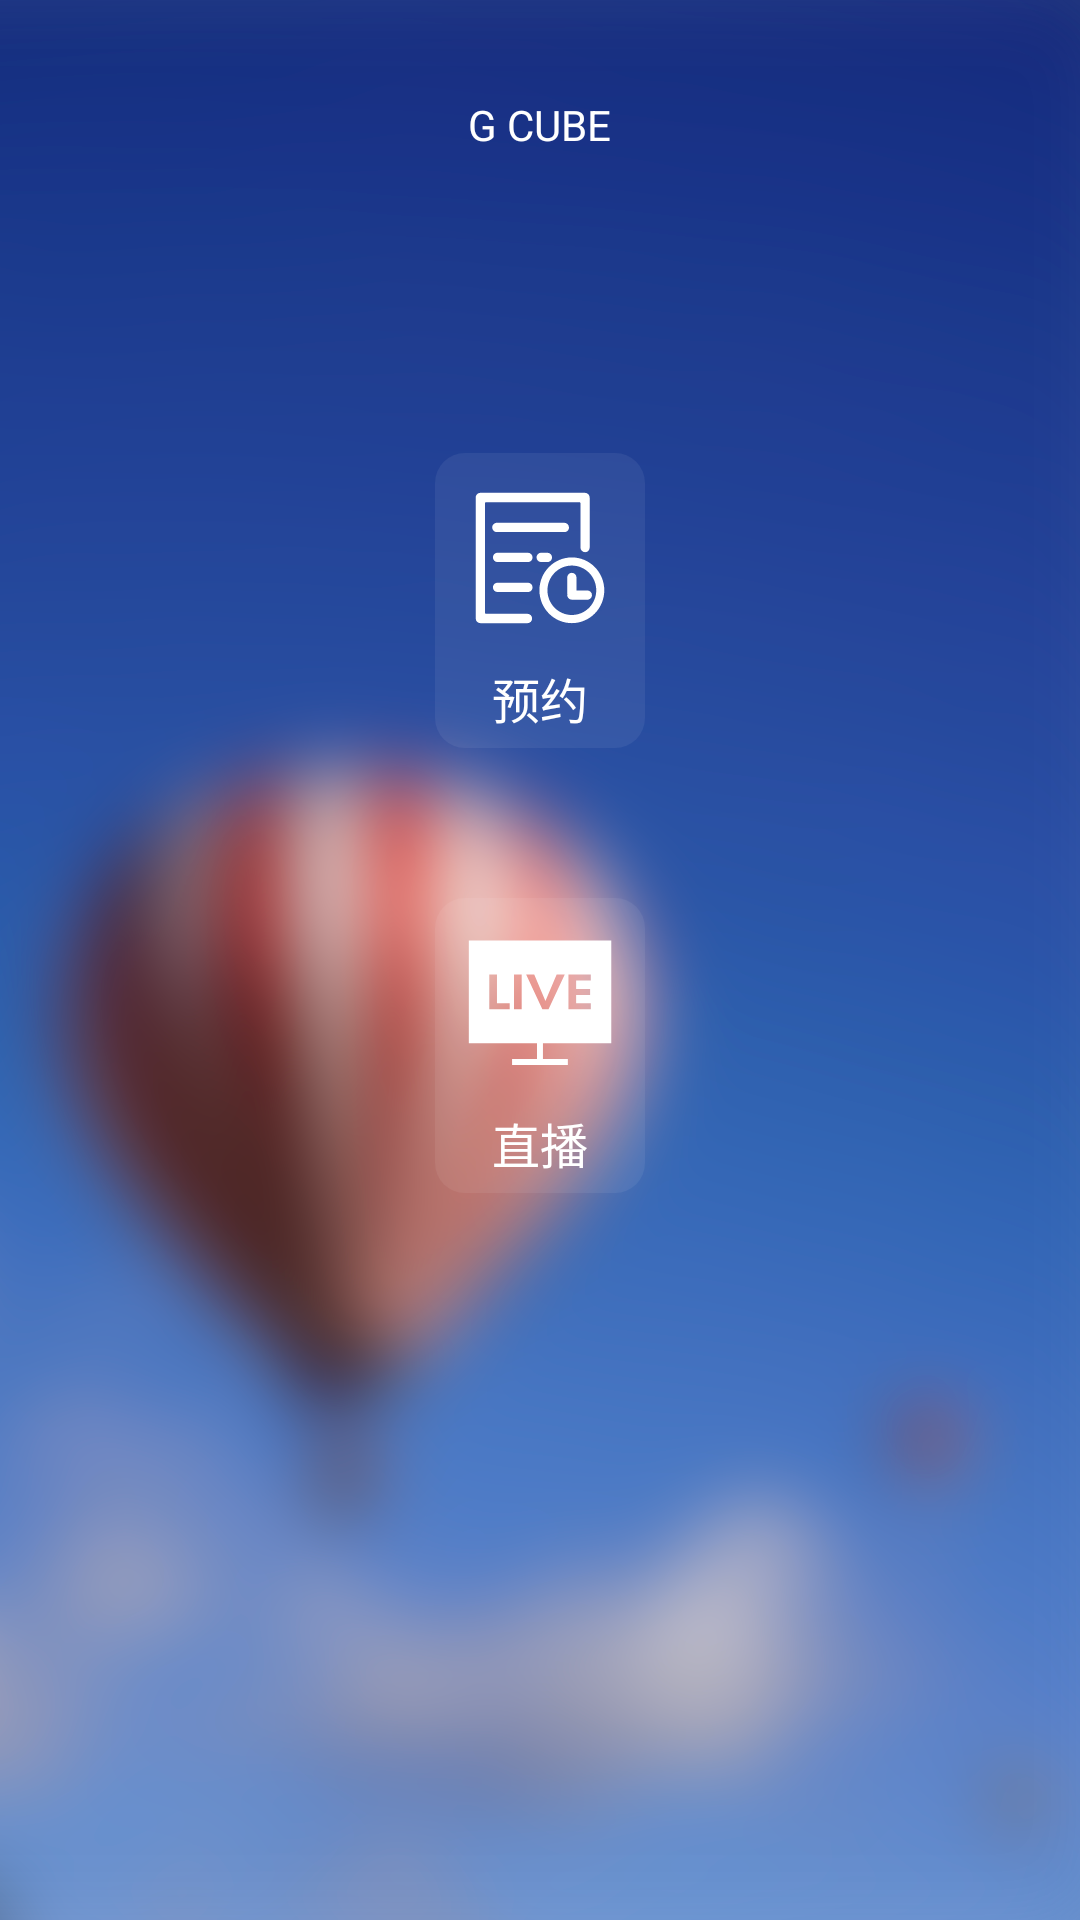

Named icons in this screenshot (1080x1920) and their centers, point (x, y):
order: point (540, 558)
